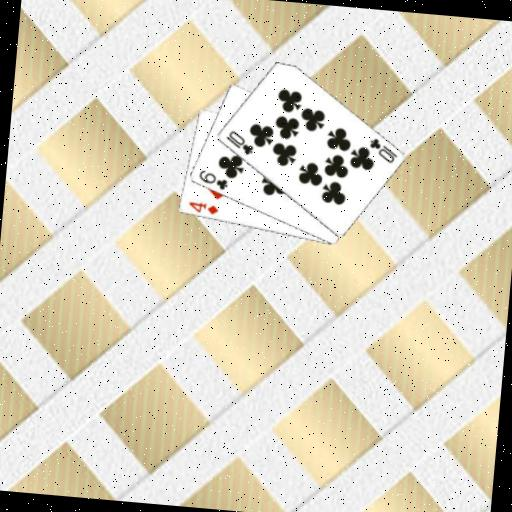10C: (365, 135, 400, 166), (222, 127, 257, 157)
4D: (185, 198, 220, 217)
6C: (195, 167, 230, 193)
